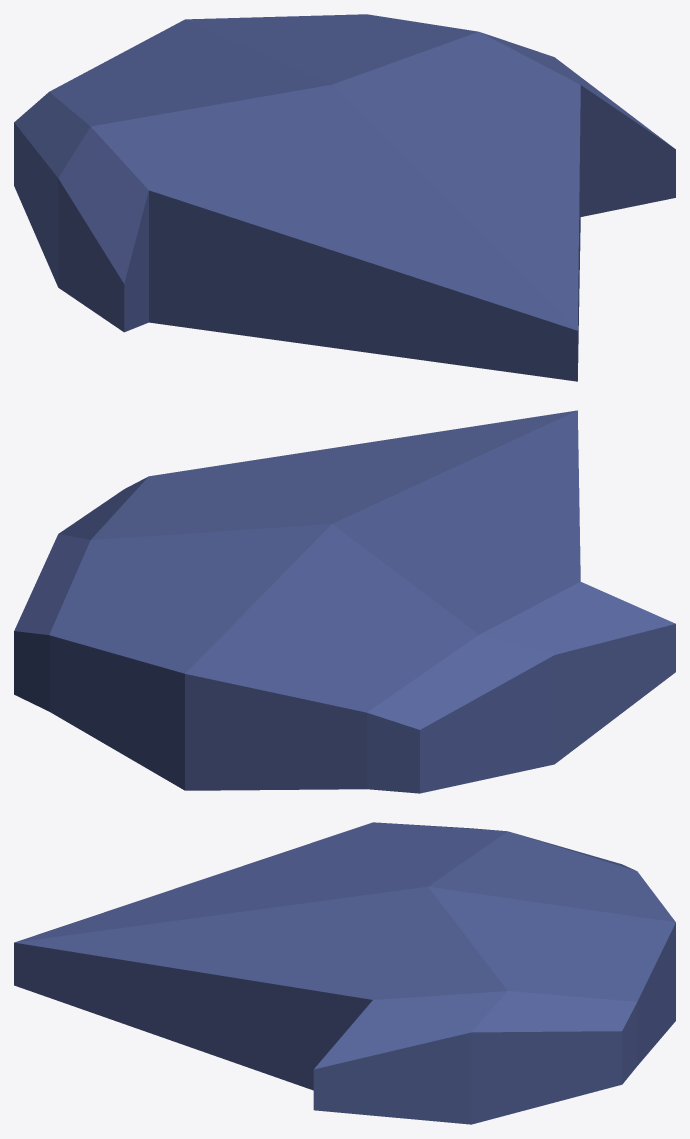
File: Ship.fbx
3 renders of one model, top to bottom at view 1: azimuth 30°, elevation 25°; view 2: azimuth 150°, elevation 25°; view 3: azimuth 270°, elevation 25°, orthographic. The views are drawn at different scales.
Visible parts, largest first — view 1: Ship; view 2: Ship; view 3: Ship.
Boxes of the visible parts, box(x1,y1,x2,y2) form: Ship: box(14, 14, 675, 381); Ship: box(14, 410, 675, 793); Ship: box(14, 822, 675, 1124).
Size of the model in its own units: 182 by 63.68 by 225.
